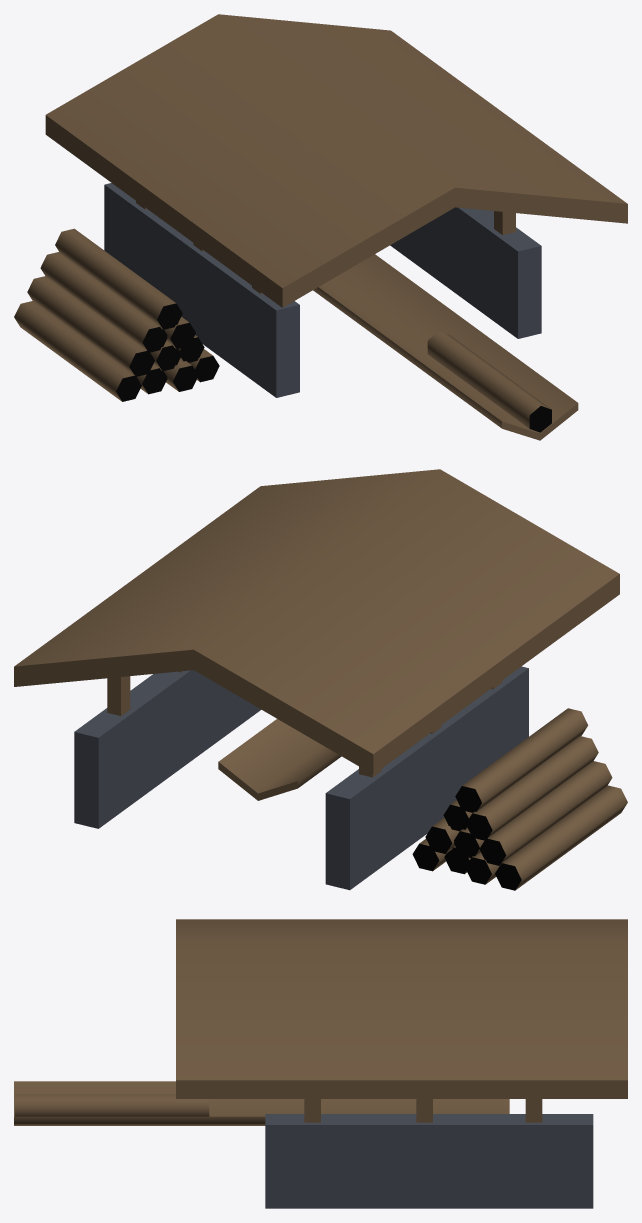
The model's file is Lumber_mill.fbx.
3 renders of one model, top to bottom at view 1: azimuth 30°, elevation 25°; view 2: azimuth 150°, elevation 25°; view 3: azimuth 270°, elevation 25°, orthographic. The views are drawn at different scales.
Visible parts, largest first — view 1: Lumber_mill; view 2: Lumber_mill; view 3: Lumber_mill.
Boxes of the visible parts, x1,y1,x2,y2 form: Lumber_mill: (14,14,627,440); Lumber_mill: (14,469,627,890); Lumber_mill: (14,919,627,1208).
Bounding box in the file's own units: 1002 × 470 × 1291.
